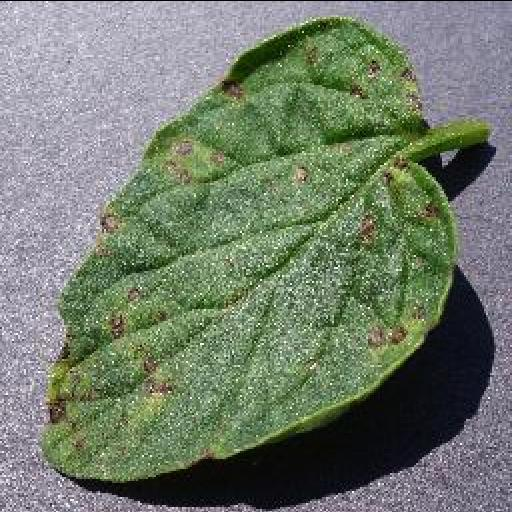disease_tomato: (30, 13, 456, 477)
